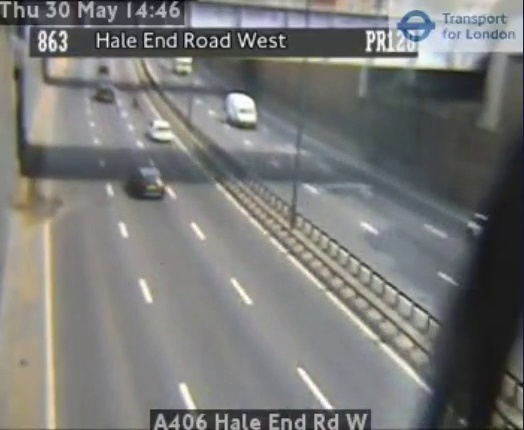car: (131, 167, 167, 196), (150, 121, 173, 141)
